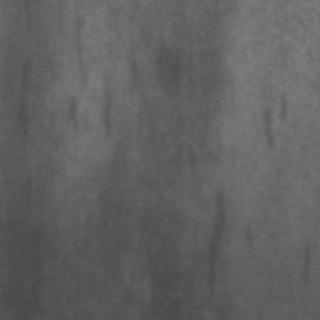inclusion: (56, 8, 98, 140), (194, 180, 232, 304), (10, 46, 42, 162), (254, 95, 280, 162)
